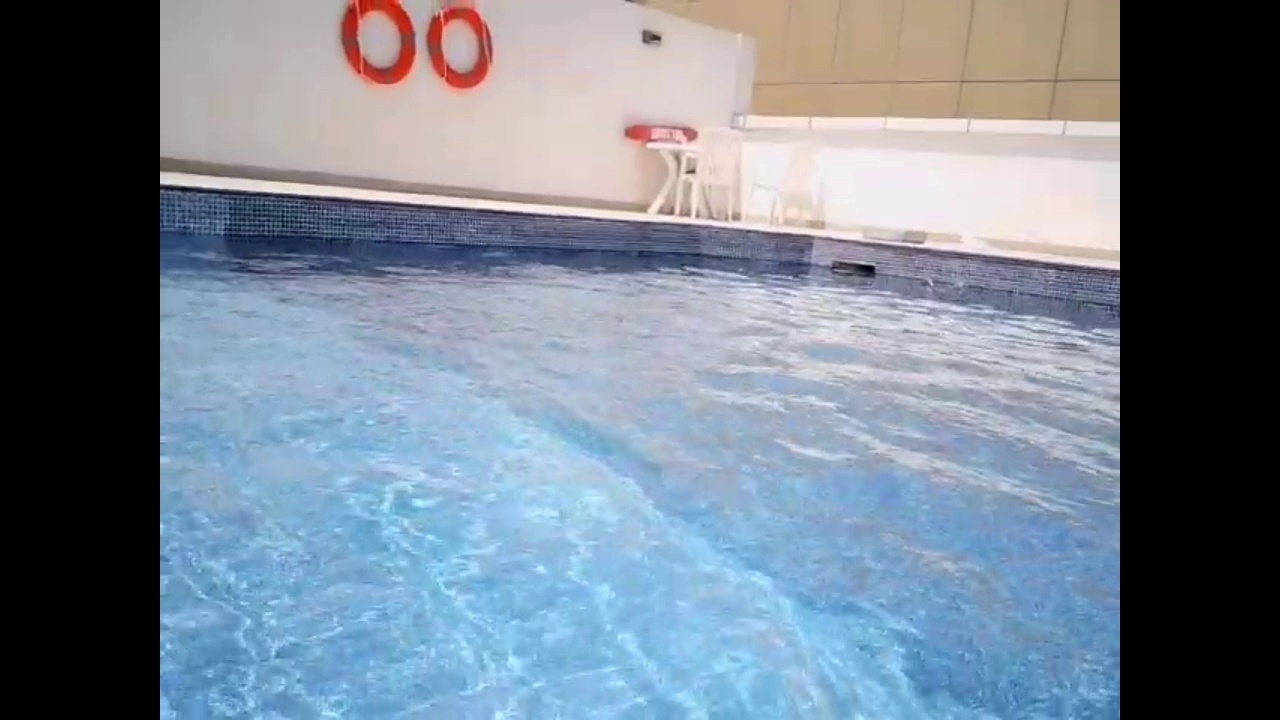debris: (912, 272, 938, 296), (946, 275, 967, 294)
